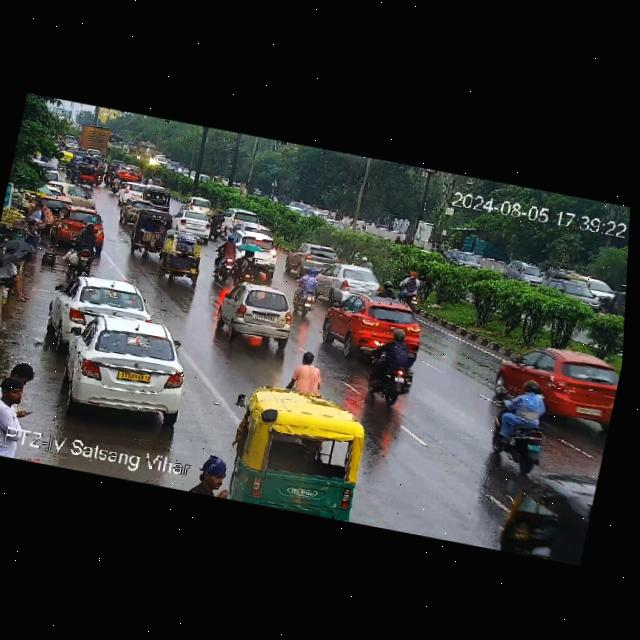car: (221, 380, 377, 523), (55, 307, 198, 423), (489, 335, 623, 429), (486, 463, 597, 566), (318, 287, 442, 371), (50, 269, 154, 344), (209, 278, 305, 355), (318, 259, 395, 302), (156, 229, 210, 287), (538, 276, 609, 315), (223, 227, 282, 270), (126, 206, 171, 259), (38, 177, 102, 209), (291, 240, 343, 275), (171, 208, 217, 240), (503, 259, 547, 288), (442, 246, 486, 273), (117, 196, 154, 227), (219, 206, 261, 233), (141, 186, 174, 213), (71, 162, 99, 189), (186, 196, 215, 216), (115, 164, 143, 183)
motorcycle: (479, 376, 564, 476), (350, 316, 427, 410), (62, 218, 102, 275), (292, 266, 329, 316), (394, 269, 438, 308), (212, 233, 238, 278), (231, 244, 259, 280), (210, 209, 226, 238), (107, 173, 124, 195), (94, 166, 105, 186)
person: (0, 356, 38, 460), (0, 255, 40, 305), (23, 202, 53, 236)
truck: (76, 121, 114, 158), (132, 140, 160, 167)
